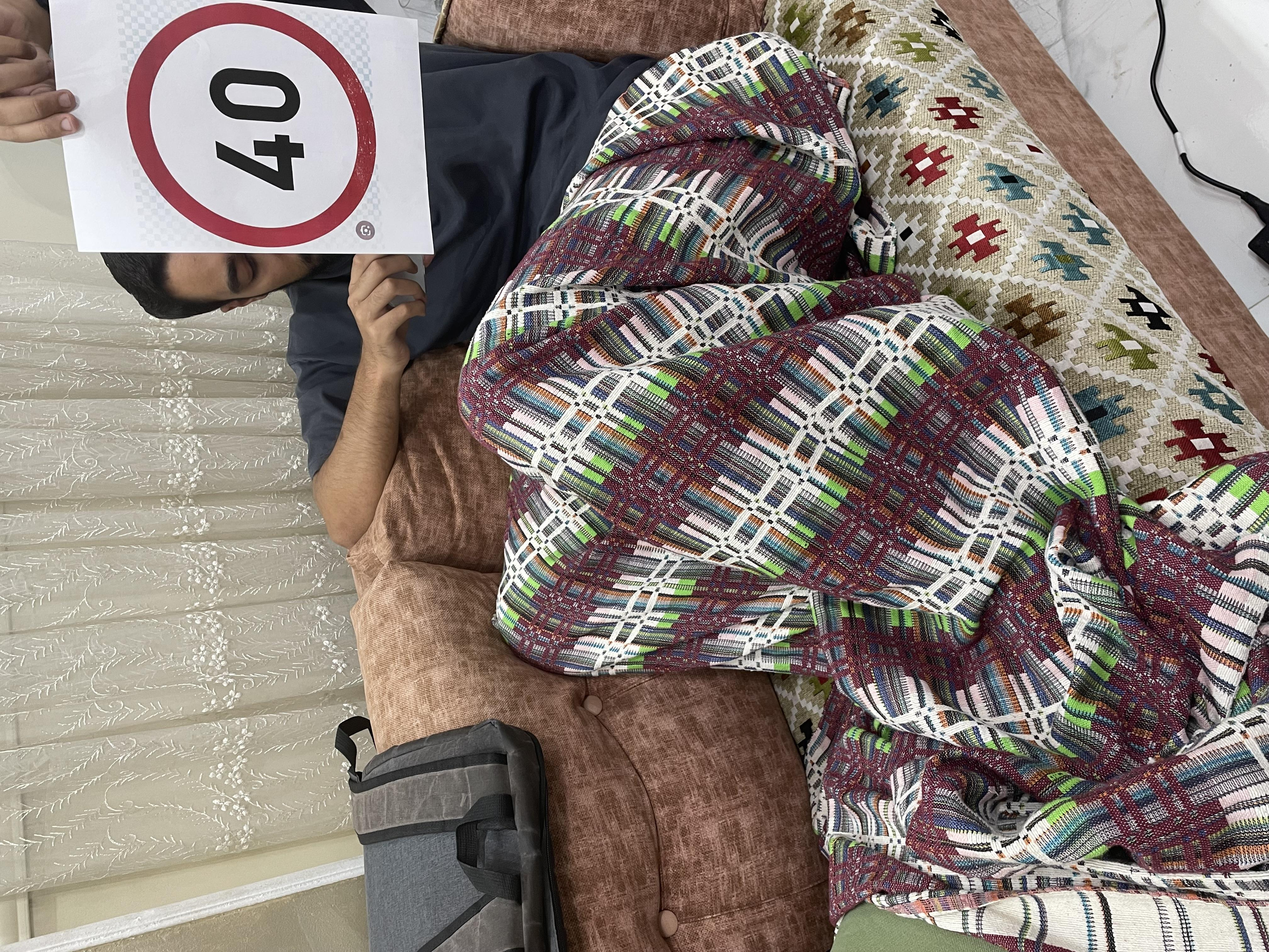40-Speed: (924, 78, 1261, 284)
